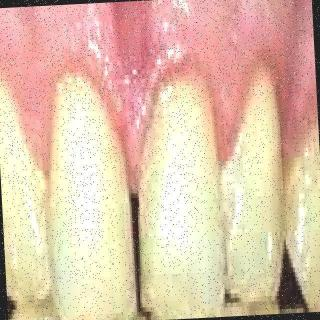Gum Swelling: (15, 41, 320, 167)
